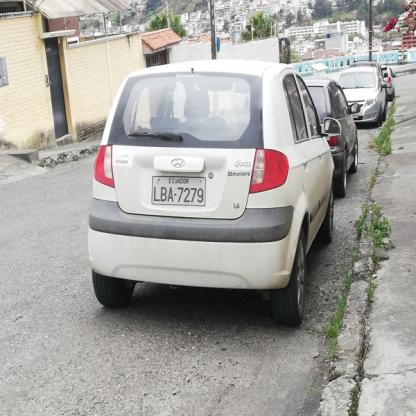Placa: (151, 178, 209, 209)
